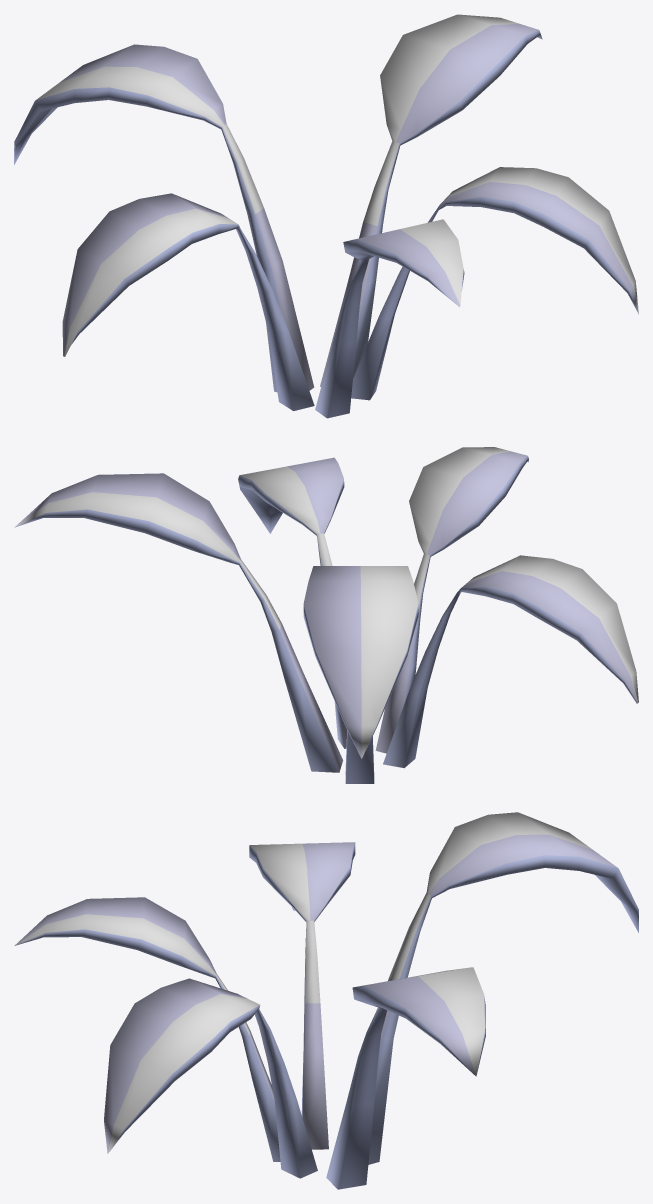
File: Prop_Plant_02.fbx
The picture shows the model from 3 angles, top to bottom: view 1: azimuth 30°, elevation 25°; view 2: azimuth 150°, elevation 25°; view 3: azimuth 270°, elevation 25°; orthographic projection. The views are drawn at different scales.
Parts seen in each view (by area): view 1: Model_Plant_02; view 2: Model_Plant_02; view 3: Model_Plant_02.
Part boxes in pixels (left/top/right/bottom): Model_Plant_02: left=14, top=14, right=638, bottom=418; Model_Plant_02: left=14, top=447, right=638, bottom=783; Model_Plant_02: left=14, top=812, right=638, bottom=1189.
Size of the model in its own units: 247 by 119 by 234.
